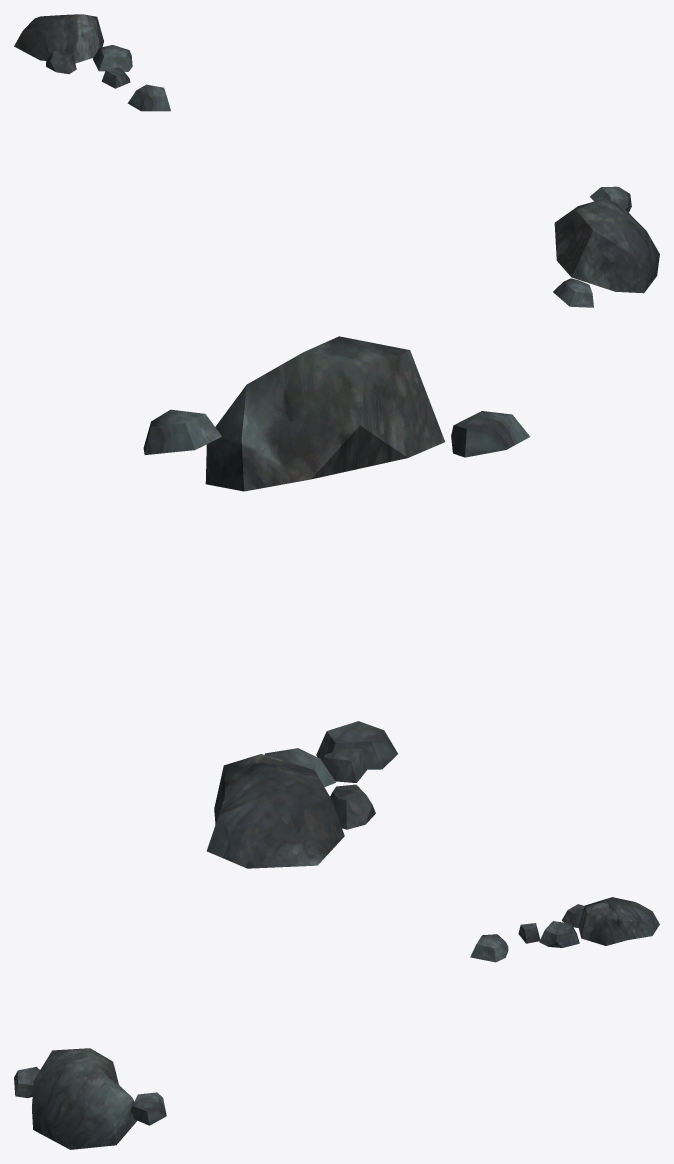
File: object_rubble26.fbx
The picture shows the model from 3 angles, top to bottom: view 1: azimuth 30°, elevation 25°; view 2: azimuth 150°, elevation 25°; view 3: azimuth 270°, elevation 25°; orthographic projection. The views are drawn at different scales.
Parts seen in each view (by area): view 1: Material_#238683587/cliffside; view 2: Material_#238683587/cliffside; view 3: Material_#238683587/cliffside.
Part boxes in pixels (left/top/right/bottom): Material_#238683587/cliffside: left=14, top=14, right=659, bottom=307; Material_#238683587/cliffside: left=143, top=336, right=530, bottom=868; Material_#238683587/cliffside: left=14, top=897, right=659, bottom=1149.
Size of the model in its own units: 4.35 by 1.44 by 7.35.
